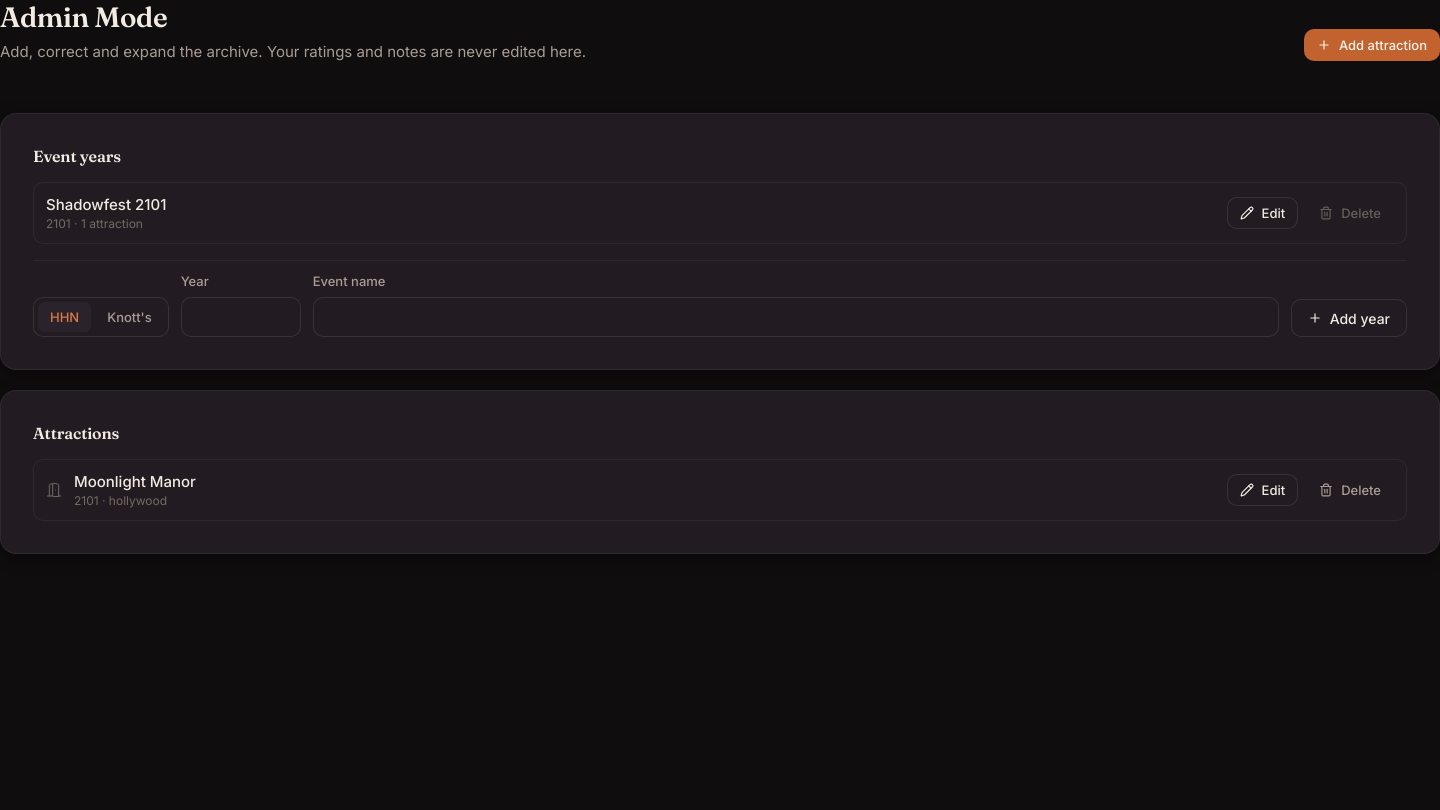
it: AdminMode › attractions › keeps the dialog open and shows why when a delete is rejected
Click the button "Delete" in the row of "Moonlight Manor".
click(1350, 490)  # box [1306, 474, 1394, 506]
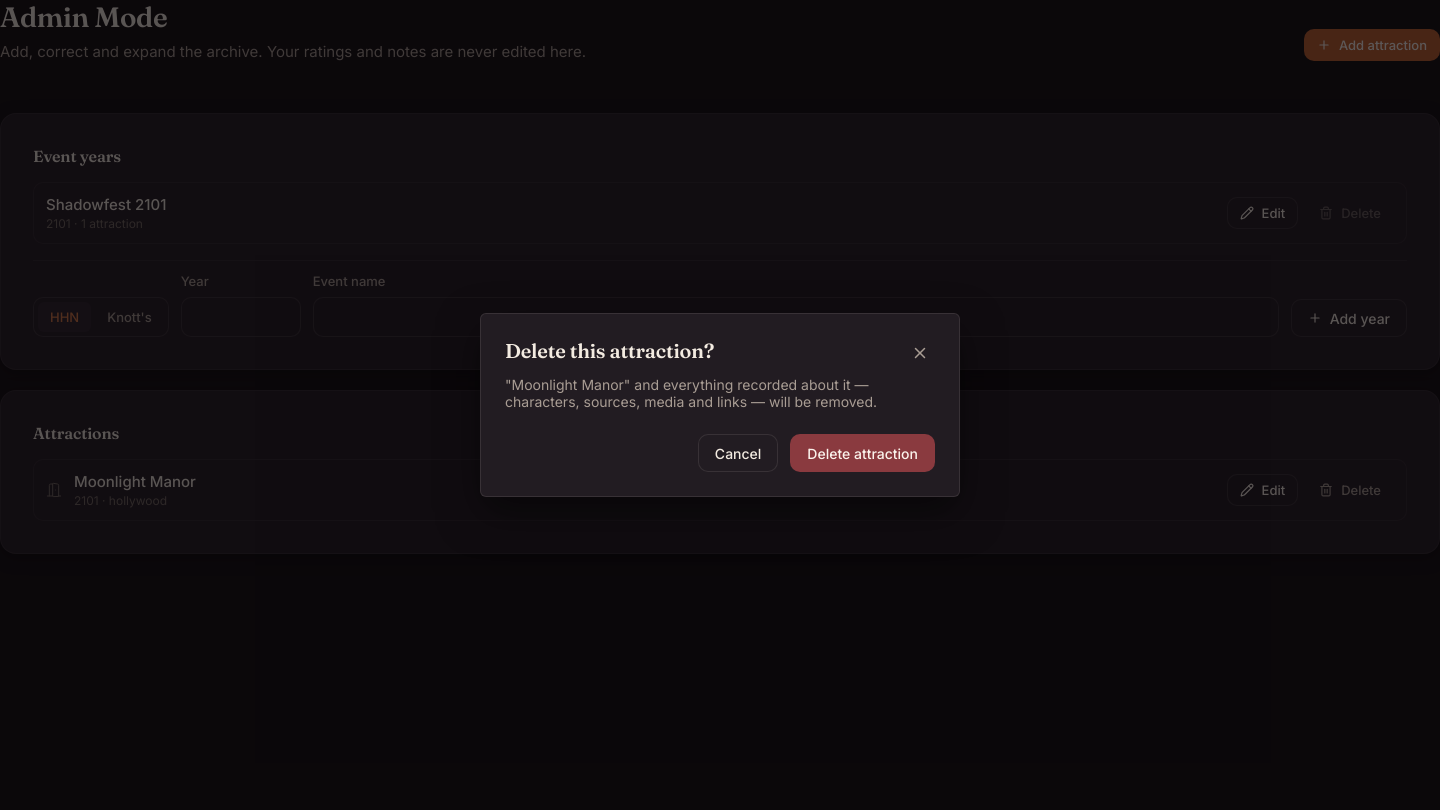
Click the button "Delete attraction".
click(863, 453)  # box [790, 434, 935, 472]
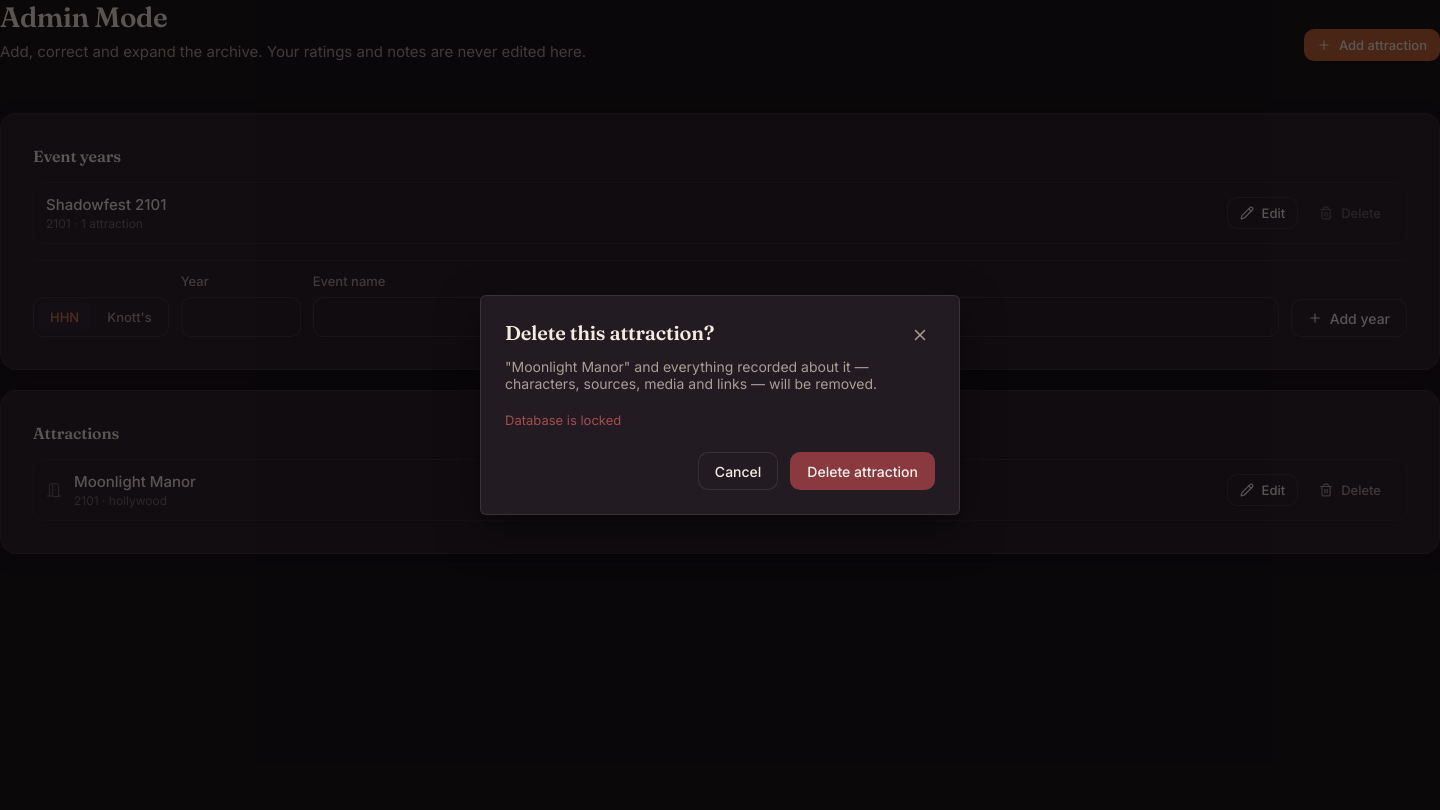
Expected: the dialog is shown, [480, 295, 960, 515]
Expected: the text "Database is locked" is shown, [505, 412, 621, 428]
